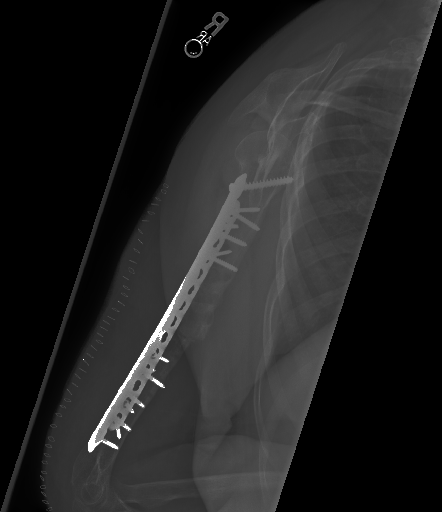implant: (199, 165, 297, 277), (88, 336, 170, 454)
